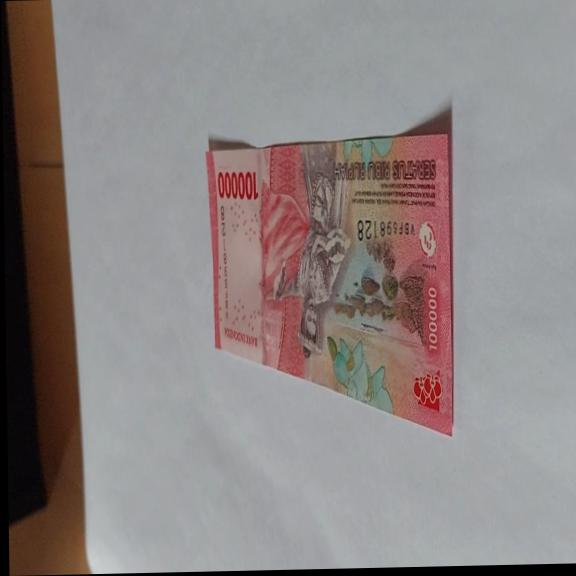Kertas: (204, 120, 455, 444), (356, 215, 415, 243), (216, 168, 258, 203)
